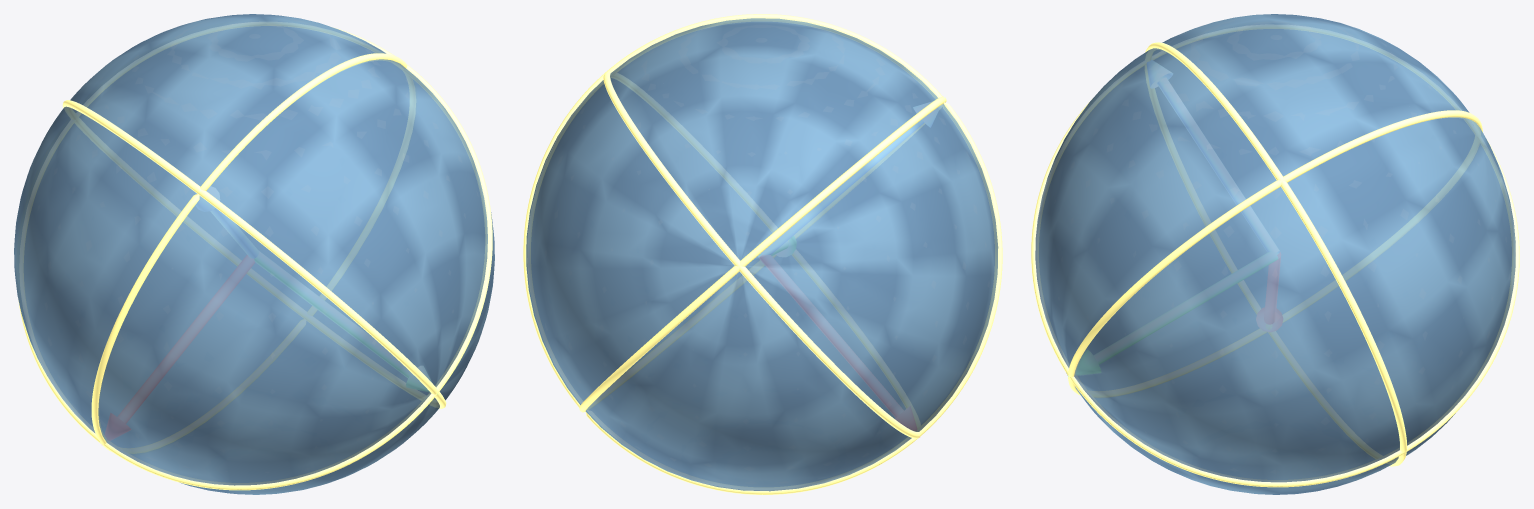
Rendered from svd.glb.
3 views of the same model, side by side, from view 1: azimuth 30°, elevation 25°; view 2: azimuth 150°, elevation 25°; view 3: azimuth 270°, elevation 25° (orthographic).
Parts seen in each view (by area): view 1: soma, megistos_kyklos (×3), dianysma_1, dianysma_2, dianysma_3; view 2: soma, megistos_kyklos (×3), dianysma_1, dianysma_3; view 3: soma, megistos_kyklos (×3), dianysma_2, dianysma_3, dianysma_1.
Boxes of the visible parts, x1=… form: soma: x1=14, y1=14, x2=494, y2=494; megistos_kyklos (×3): x1=18, y1=22, x2=492, y2=490; dianysma_1: x1=105, y1=255, x2=254, y2=440; dianysma_2: x1=255, y1=251, x2=437, y2=394; dianysma_3: x1=196, y1=186, x2=258, y2=258; soma: x1=526, y1=18, x2=998, y2=491; megistos_kyklos (×3): x1=523, y1=14, x2=1002, y2=494; dianysma_1: x1=759, y1=255, x2=919, y2=437; dianysma_3: x1=762, y1=97, x2=944, y2=254; soma: x1=1035, y1=14, x2=1515, y2=494; megistos_kyklos (×3): x1=1031, y1=24, x2=1519, y2=487; dianysma_2: x1=1068, y1=252, x2=1277, y2=376; dianysma_3: x1=1147, y1=60, x2=1279, y2=254; dianysma_1: x1=1256, y1=253, x2=1282, y2=331.
Bounding box in the file's own units: 0.2463 × 0.2463 × 0.2501.
